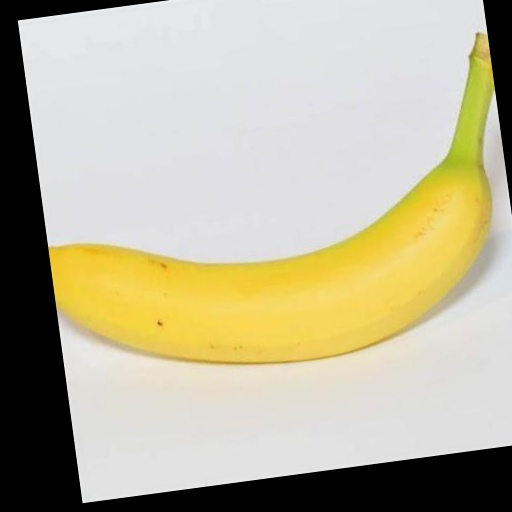fruit: (48, 34, 494, 362)
